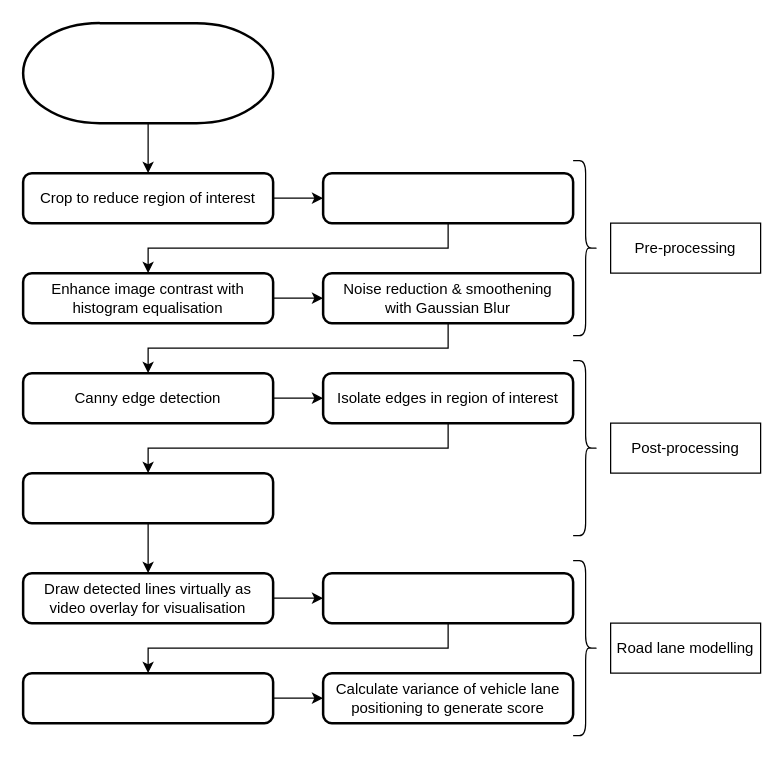
This 783x758 diagram has some shape labels left out. The shapes that lost their labels are listed below. From the top down, each one's centre as x and y in pixels, then its label:
At (x=147, y=72): "Image frame extracted from continuous video".
At (x=447, y=197): "Single channel conversion with gray-scaling".
At (x=147, y=497): "Apply Hough Transform to identify lane markings".
At (x=447, y=597): "Calculate position of the base of the detected lines".
At (x=147, y=697): "Alert if left/right line base position moves to threshold".
